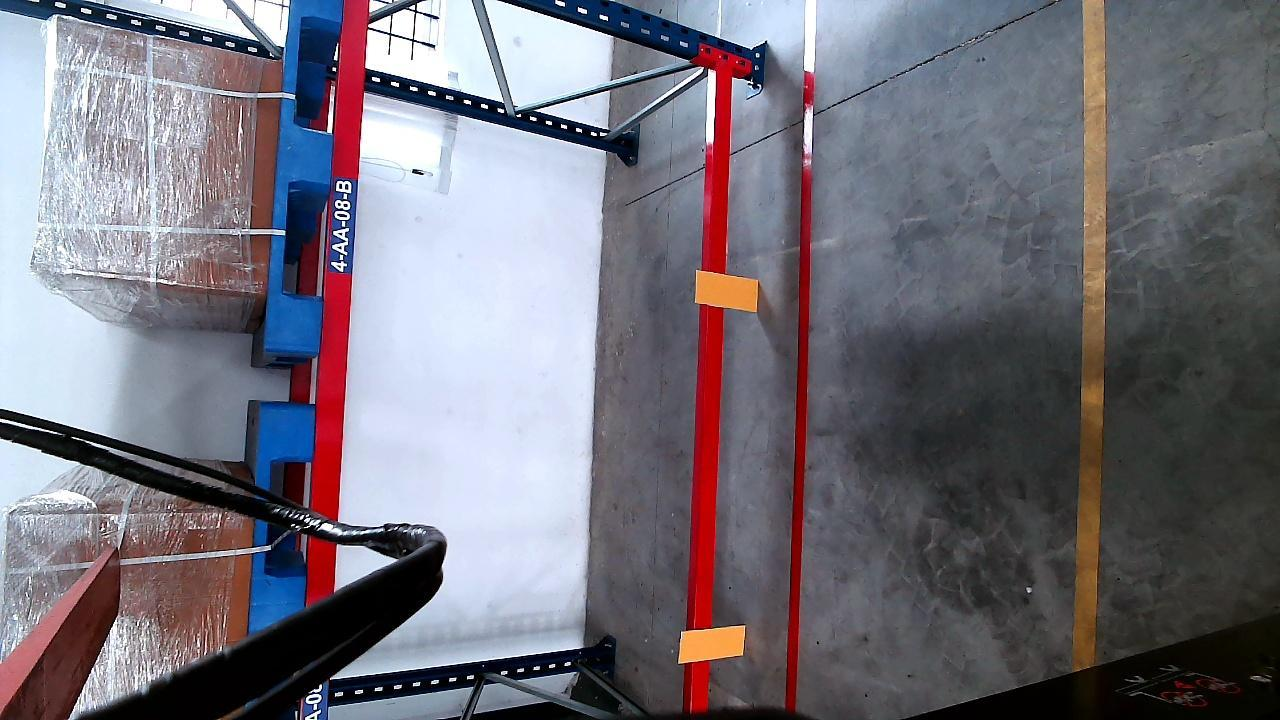yellow_line: (1077, 0, 1104, 672)
